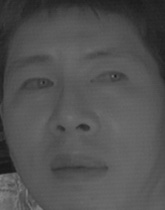eye: (86, 66, 131, 89), (16, 72, 55, 95)
mouth: (49, 146, 110, 188)
